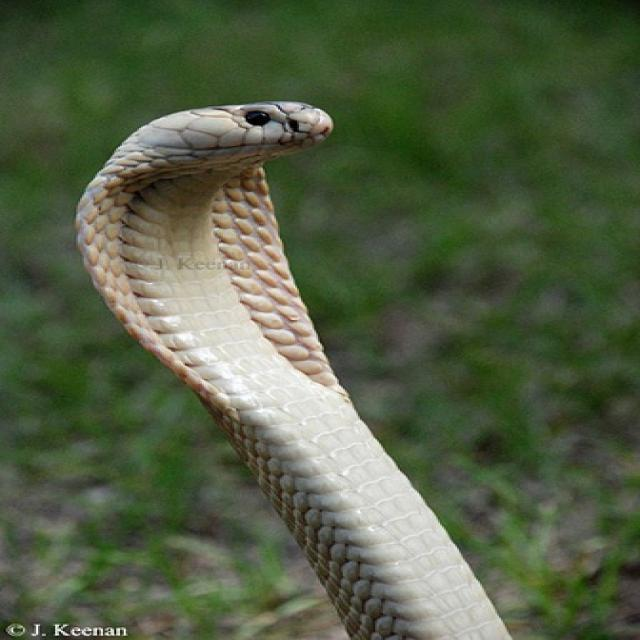Snake: (72, 99, 514, 638)
